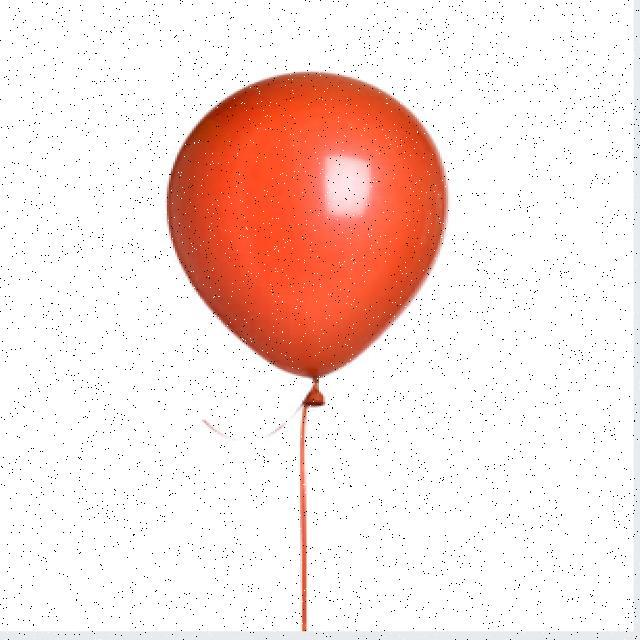red: (165, 71, 448, 405)
